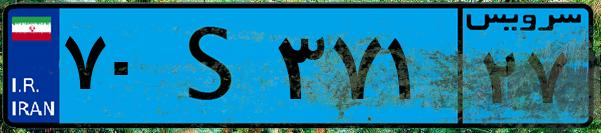0: (110, 28, 158, 98)
1: (385, 28, 445, 110)
2: (475, 38, 525, 113)
3: (270, 28, 330, 110)
7: (330, 28, 385, 110), (57, 26, 110, 100), (525, 38, 570, 115)
S: (158, 12, 270, 120)
